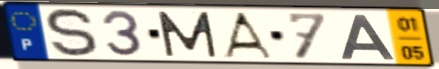3: (99, 8, 144, 58)
7: (285, 11, 329, 61)
A: (339, 13, 398, 62), (220, 11, 275, 60)
M: (154, 10, 220, 59)
S: (43, 7, 102, 59)
